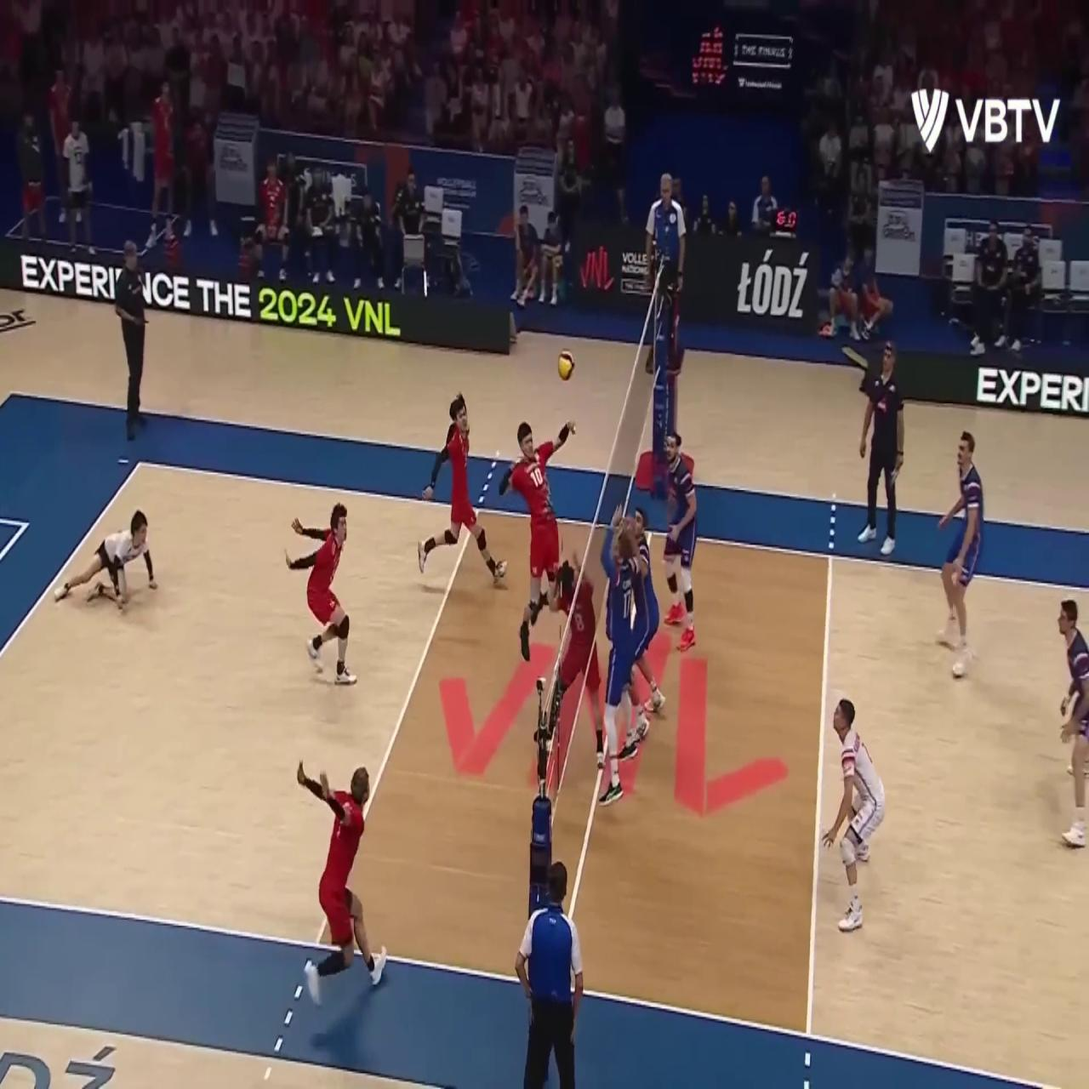ball: (558, 348, 575, 382)
